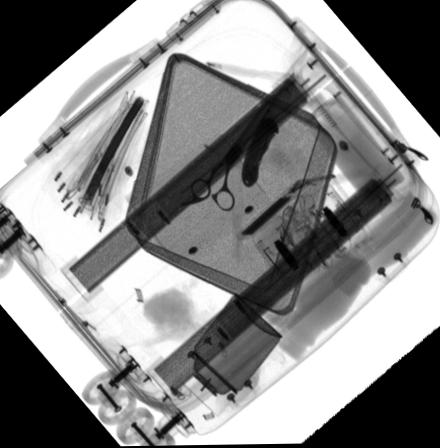Knife: (242, 119, 279, 188)
Powerbank: (237, 179, 311, 242)
Scissors: (178, 97, 277, 212)
Sprayer: (176, 292, 284, 419)
